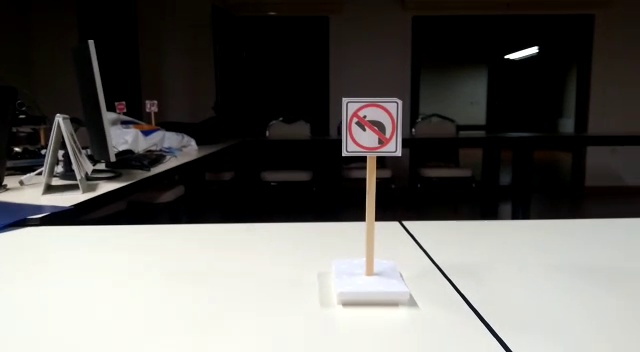sola_donulmez: (347, 104, 398, 152)
